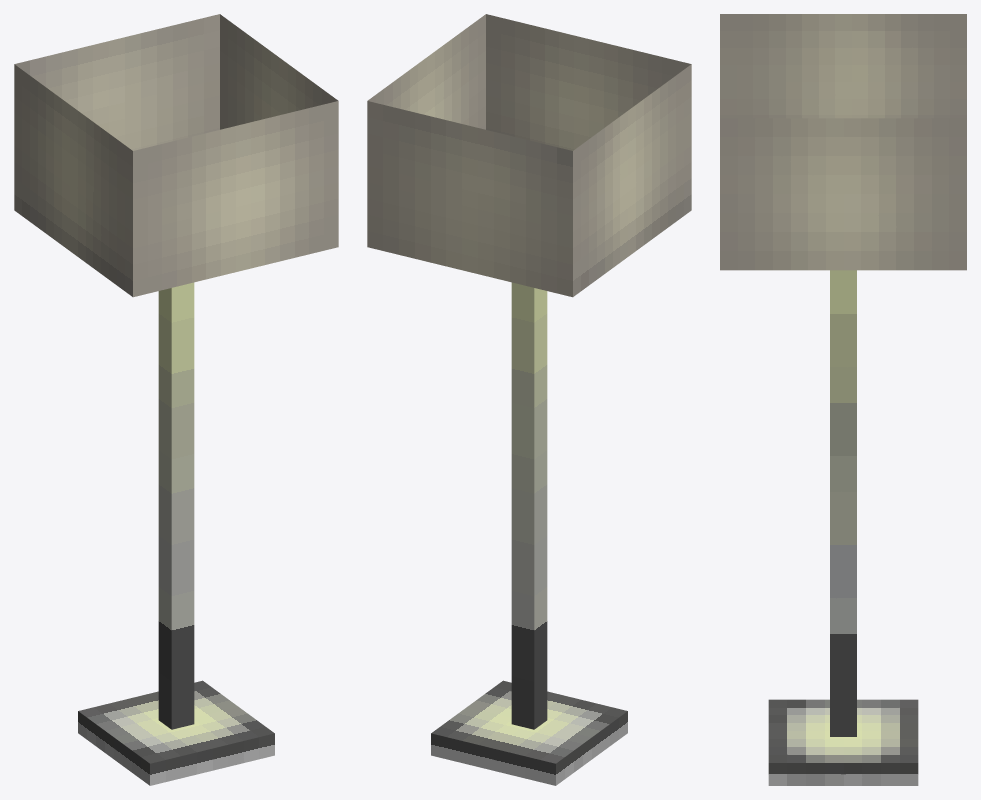
File: StandingLamp.fbx
The picture shows the model from 3 angles, left to right: view 1: azimuth 30°, elevation 25°; view 2: azimuth 150°, elevation 25°; view 3: azimuth 270°, elevation 25°; orthographic projection. The views are drawn at different scales.
Visible parts, largest first — view 1: TallRoomLamp; view 2: TallRoomLamp; view 3: TallRoomLamp.
Boxes of the visible parts, <box> form: TallRoomLamp: <box>14,14,338,785</box>; TallRoomLamp: <box>367,14,691,785</box>; TallRoomLamp: <box>720,14,966,785</box>.
Size of the model in its own units: 200 by 615 by 200.
1 material, 1 textured.
